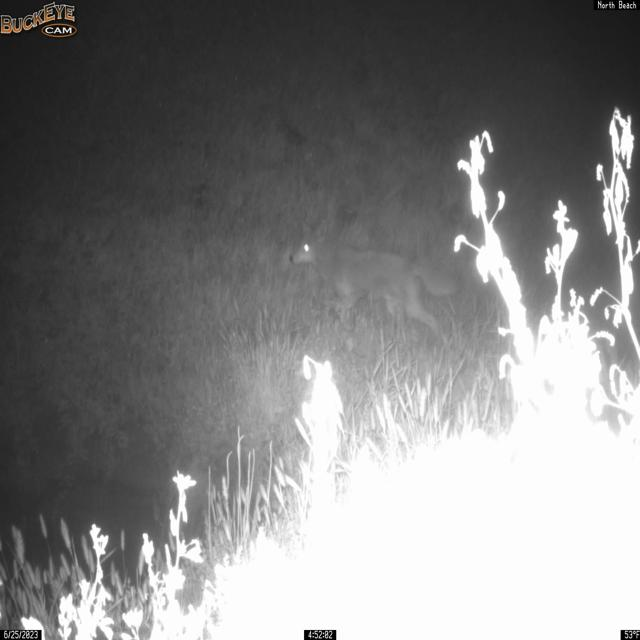coyote: (288, 218, 462, 340)
